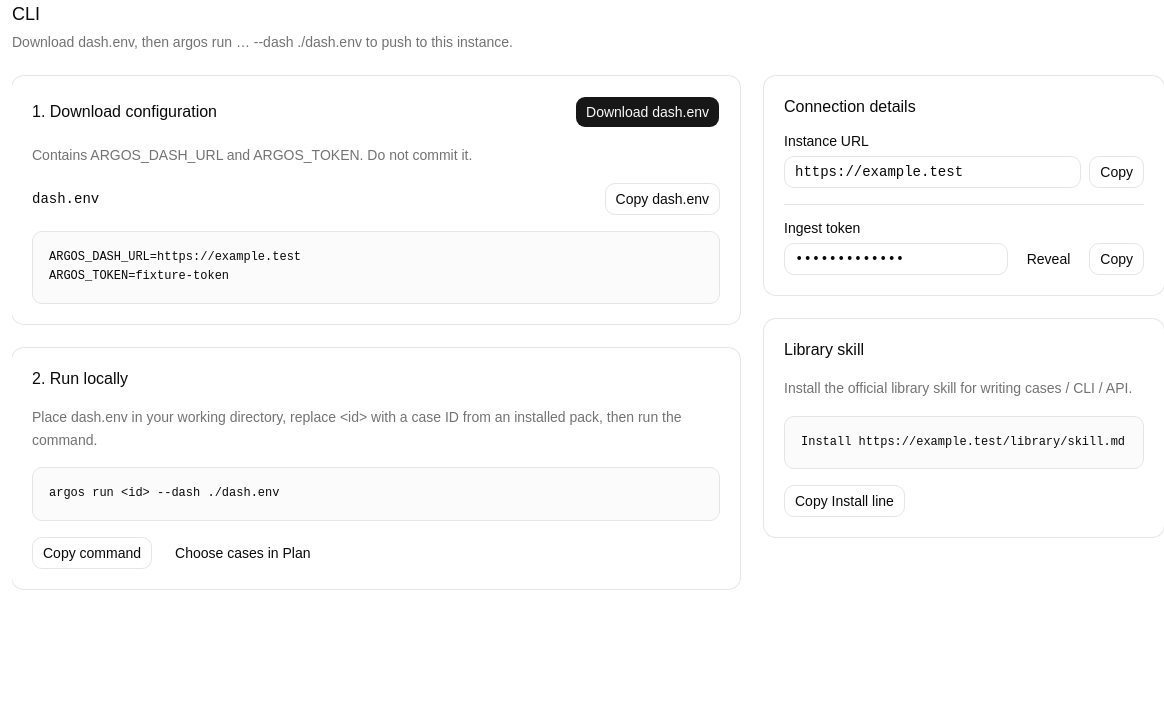
Test case: shows copy errors without reporting success
Expected: the field labelled "Instance URL" is shown, [784,156,1081,188]
Click the button "Copy dash.env" at (662, 199), box [605,183,720,215]
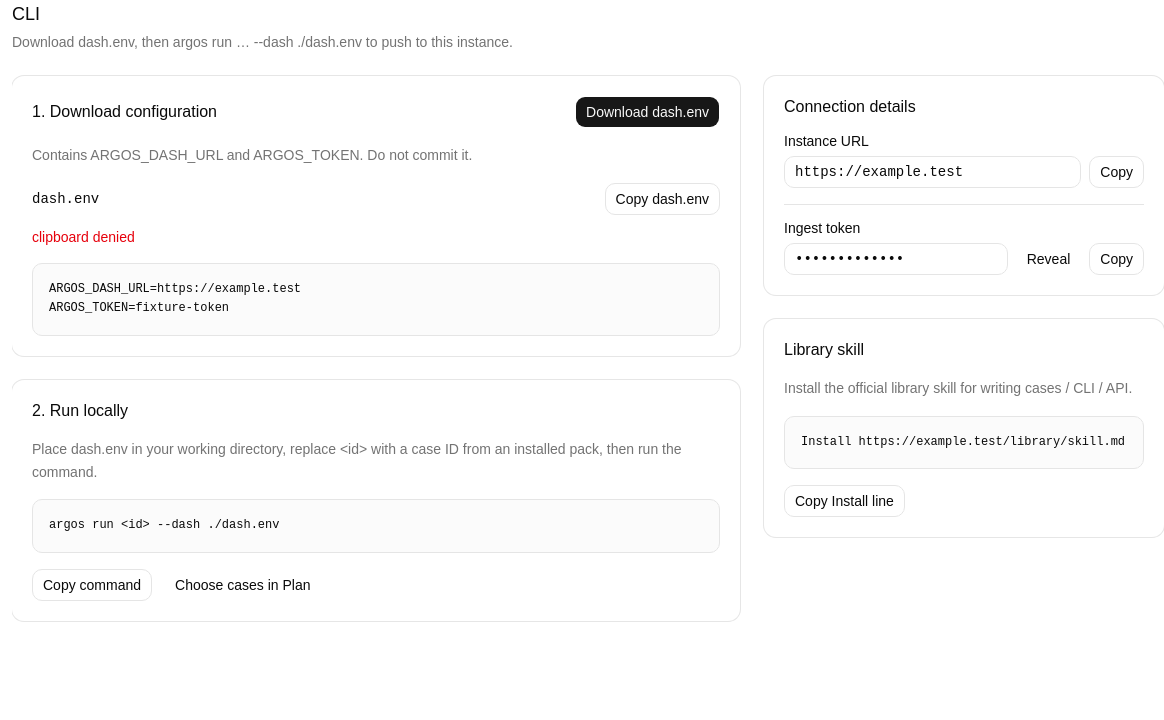
Result: the message reads "clipboard denied" at [32,229,135,245]
